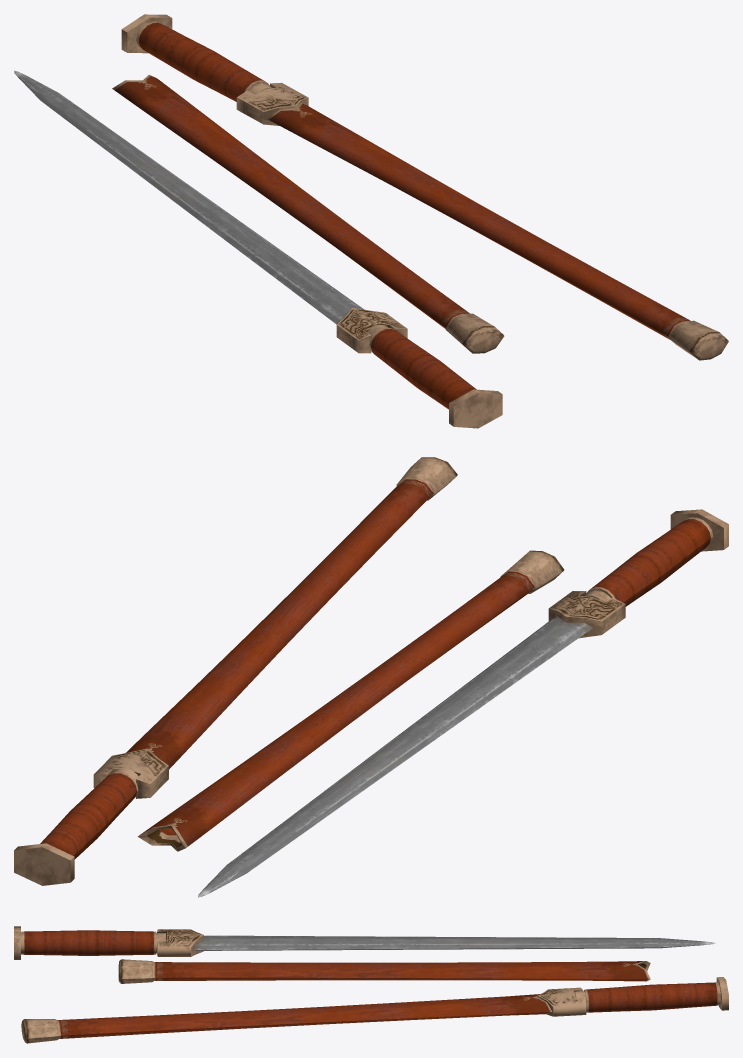
File: chinese_sword_-_han_jian-transformed.glb
3 renders of one model, top to bottom at view 1: azimuth 30°, elevation 25°; view 2: azimuth 150°, elevation 25°; view 3: azimuth 270°, elevation 25°, orthographic. The views are drawn at different scales.
Visible parts, largest first — view 1: Sword_Sword_0; view 2: Sword_Sword_0; view 3: Sword_Sword_0.
Part boxes in pixels (left/top/right/bottom): Sword_Sword_0: left=14, top=14, right=728, bottom=428; Sword_Sword_0: left=14, top=457, right=728, bottom=897; Sword_Sword_0: left=14, top=926, right=728, bottom=1043.
Size of the model in its own units: 59.13 by 7.13 by 171.
1 material, 1 textured.
